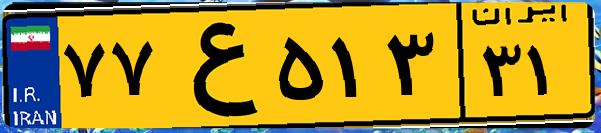1: (330, 28, 385, 110), (525, 38, 570, 115)
3: (385, 28, 445, 110), (475, 38, 525, 113)
5: (270, 28, 330, 110)
7: (57, 26, 110, 100), (110, 28, 158, 98)
ع: (158, 12, 270, 120)
